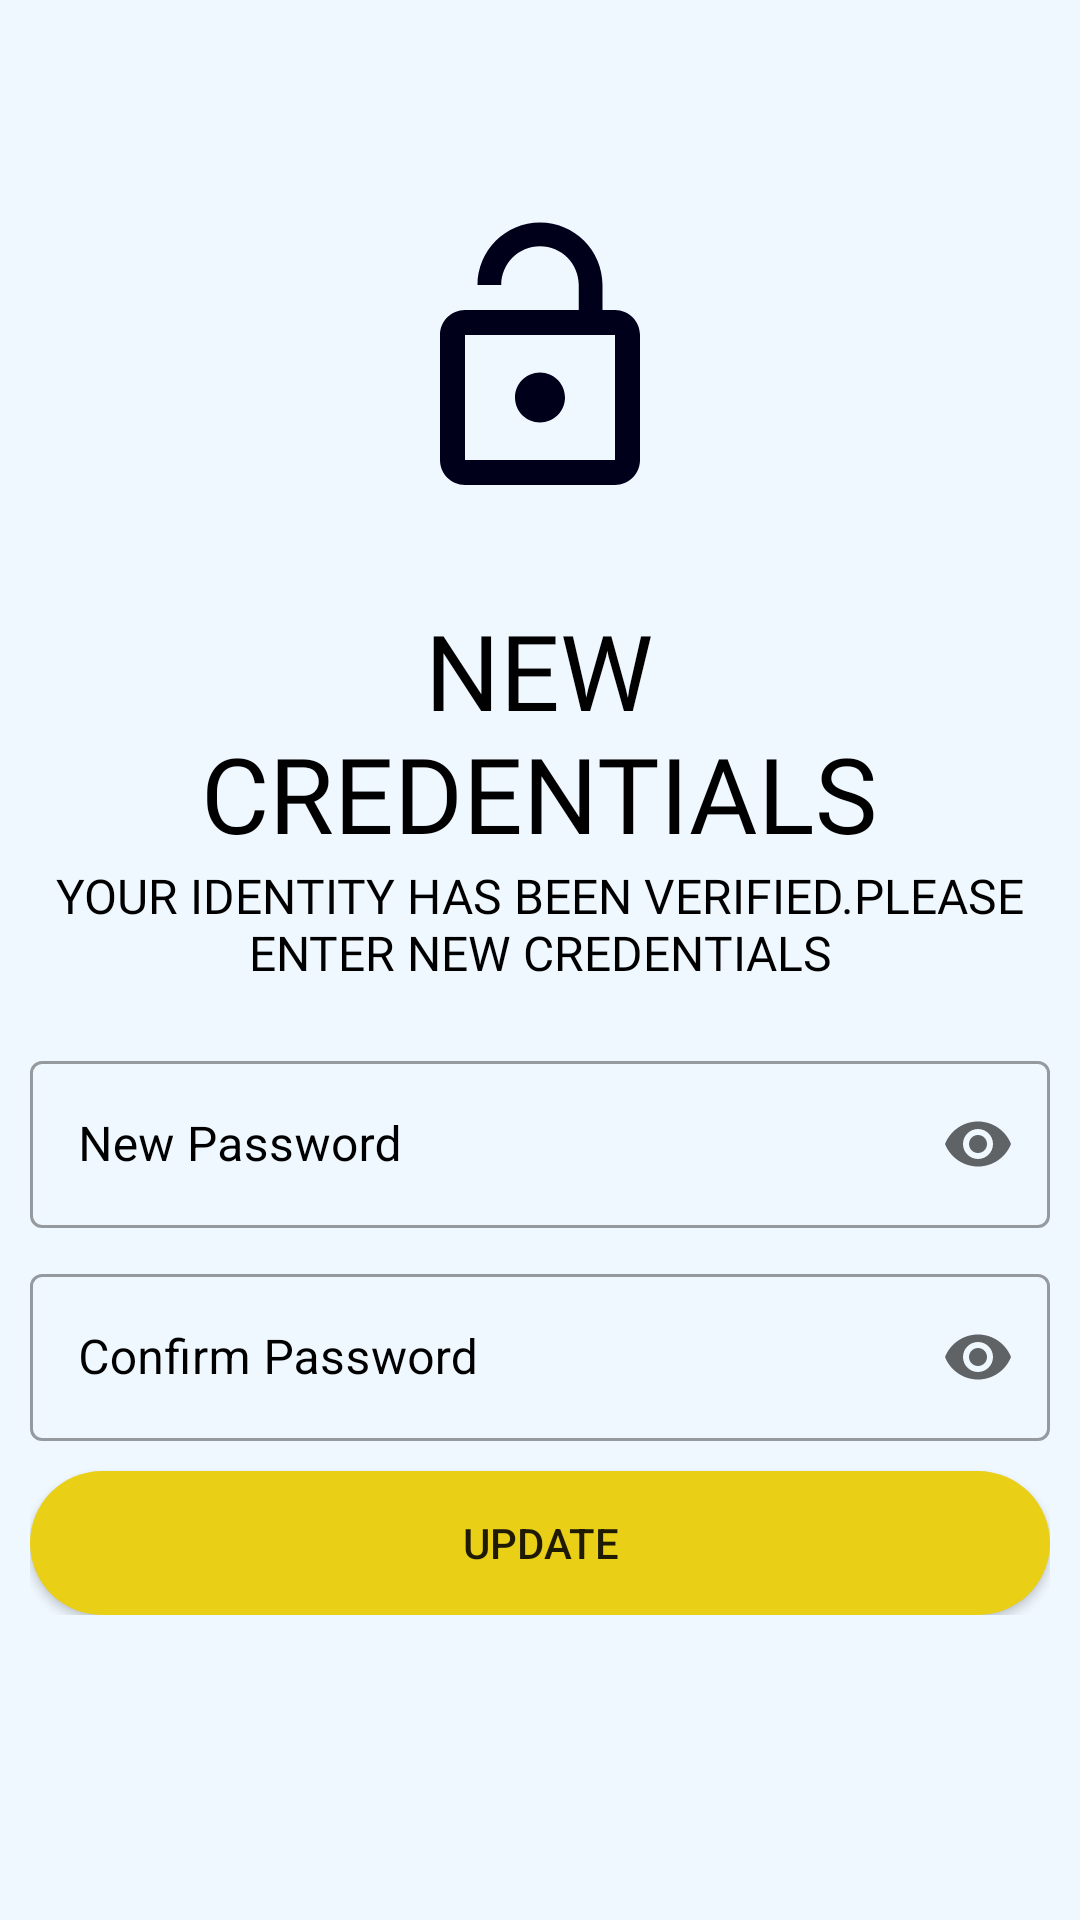

Locate icon controls on the screen. Image size 1080x1920, boxes as box(x1, y1, x2, y2).
newpassword: box(440, 222, 640, 485)
